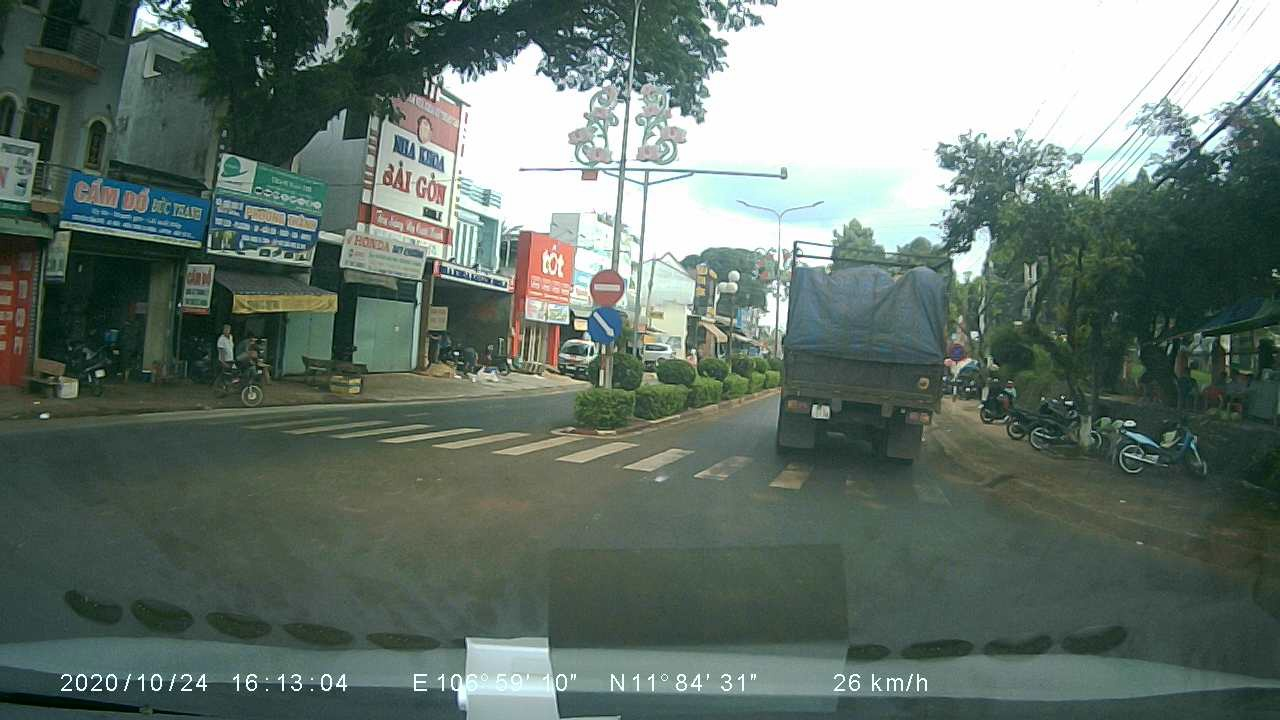Cam di nguoc chieu: (588, 264, 624, 308)
Huong di phai re phai: (582, 308, 626, 343)
